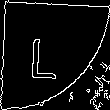L_N: (38, 29, 72, 81)
